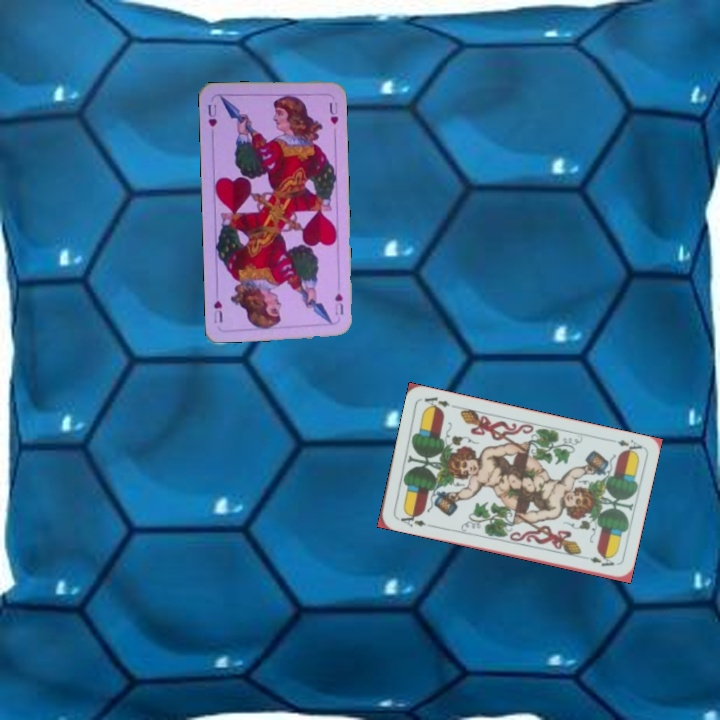EA: (604, 435, 644, 456), (393, 508, 428, 529)
HU: (330, 288, 346, 318), (204, 100, 219, 129)
